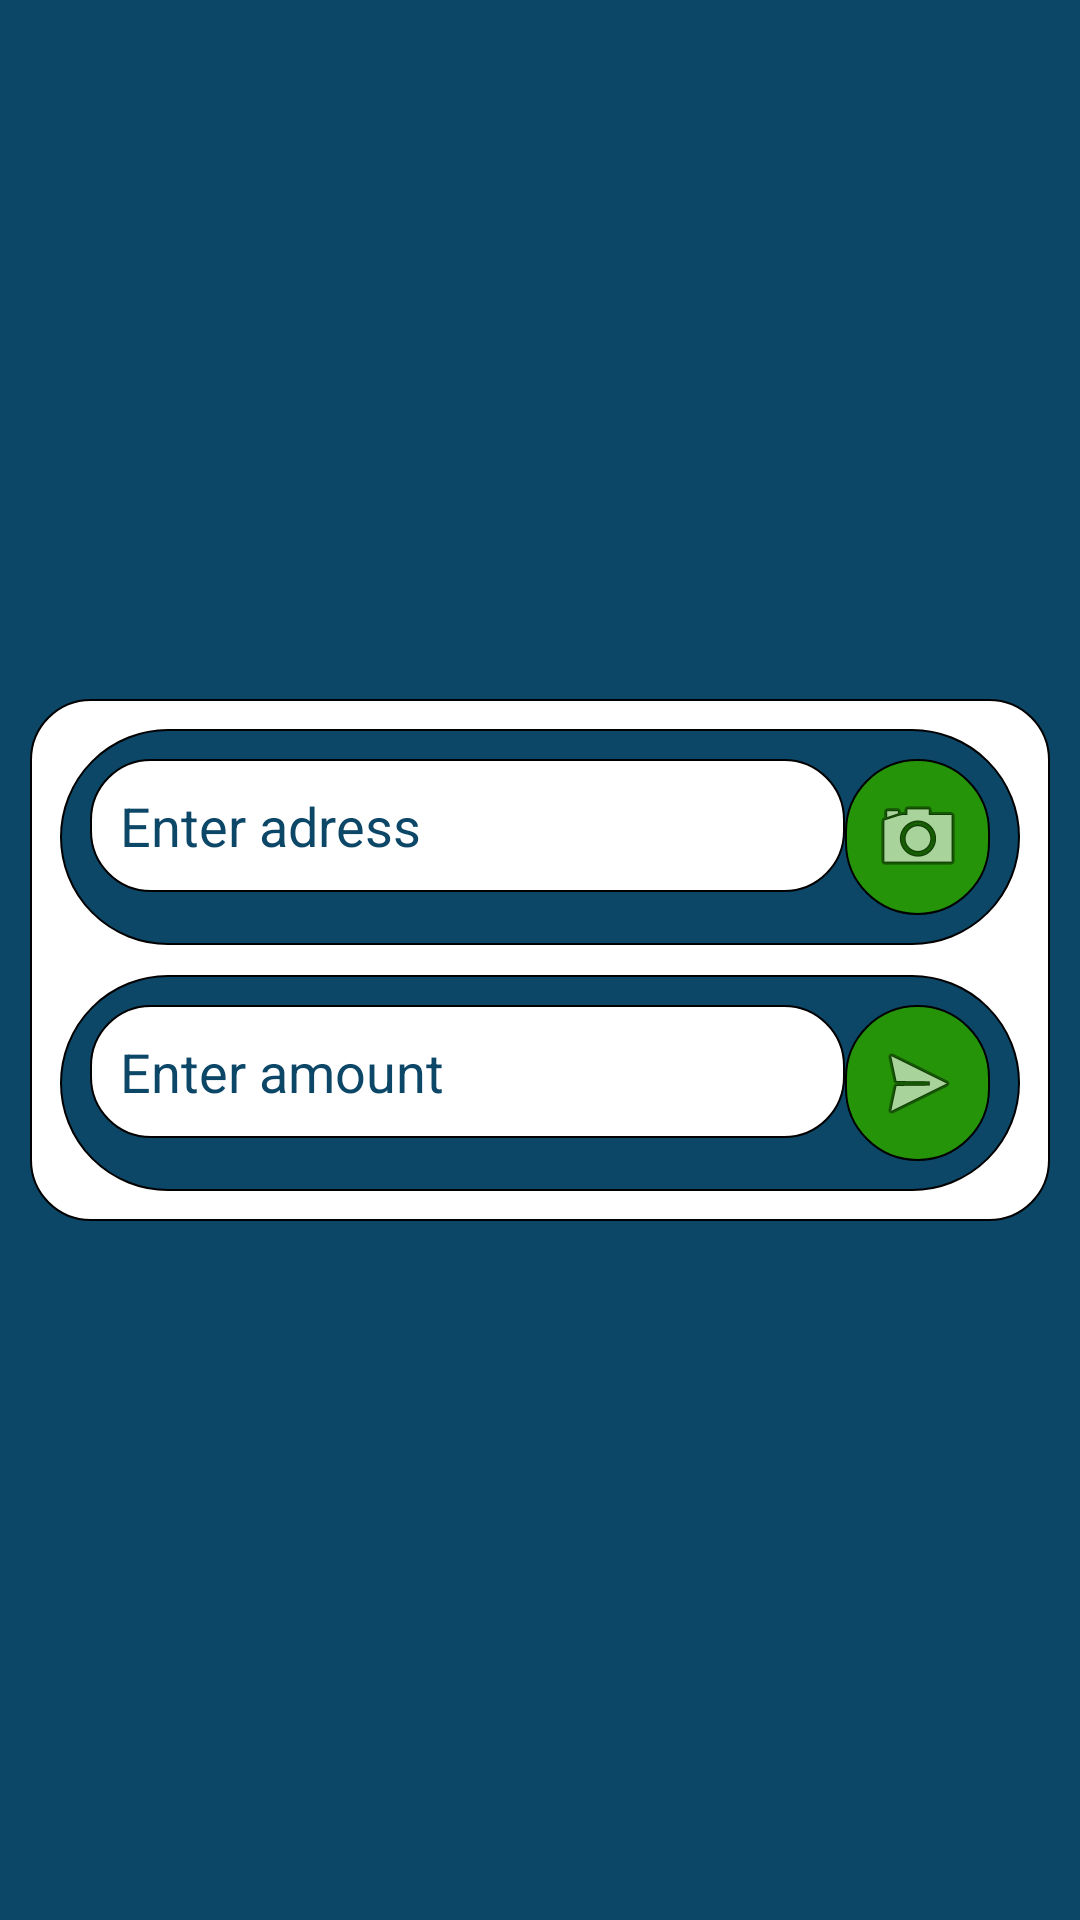

Icons on this 1080px x 1920px Android screen, each with the point to tap as (x,y):
camera: (917,837)
send: (917,1083)
